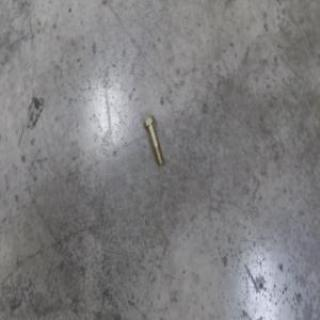Bolttrack_idkeyframe: (140, 115, 161, 167)
